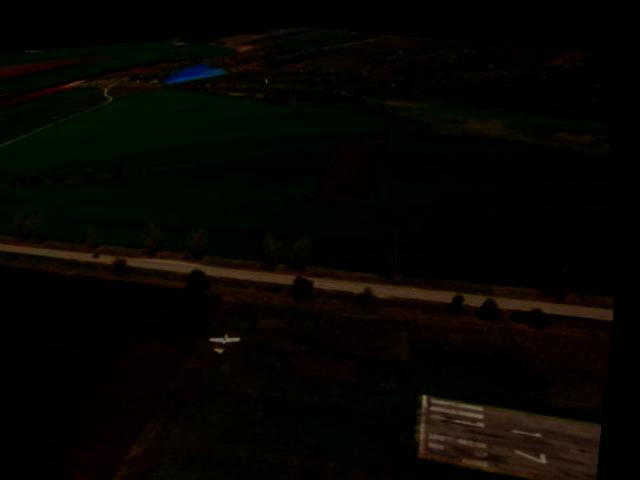uav: (203, 313, 258, 363)
